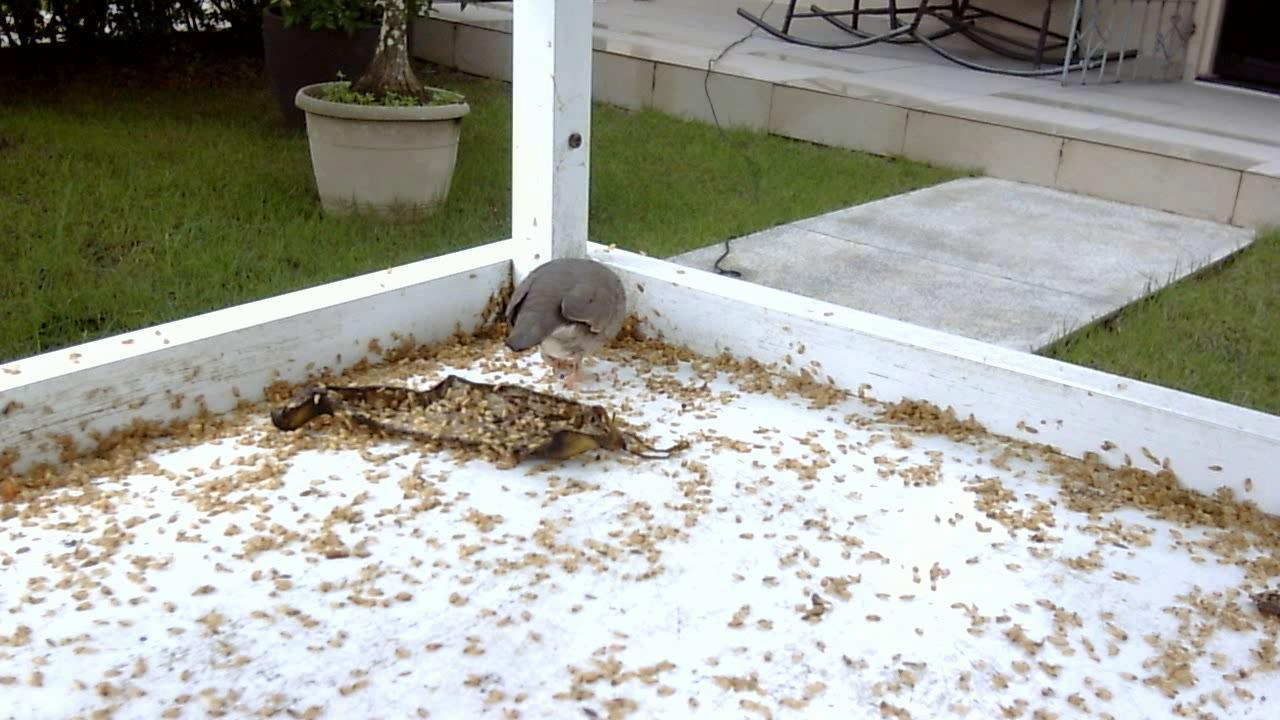rolinha: (493, 250, 630, 390)
